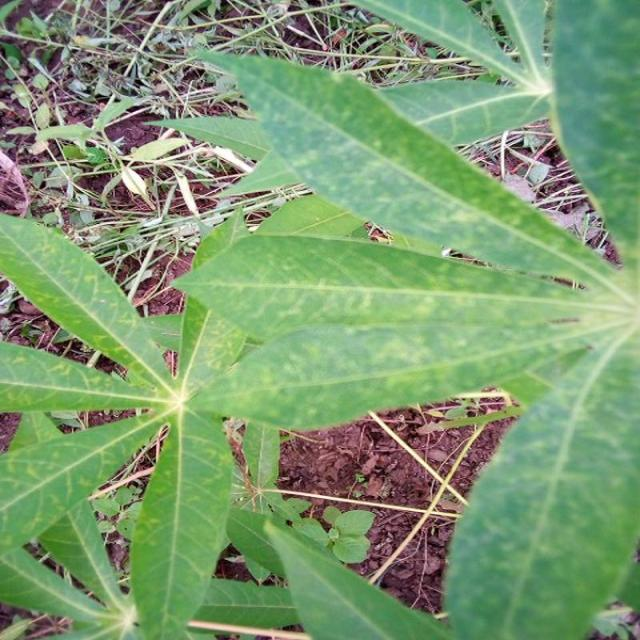cassava leaf: (0, 3, 638, 638), (0, 209, 174, 393)
